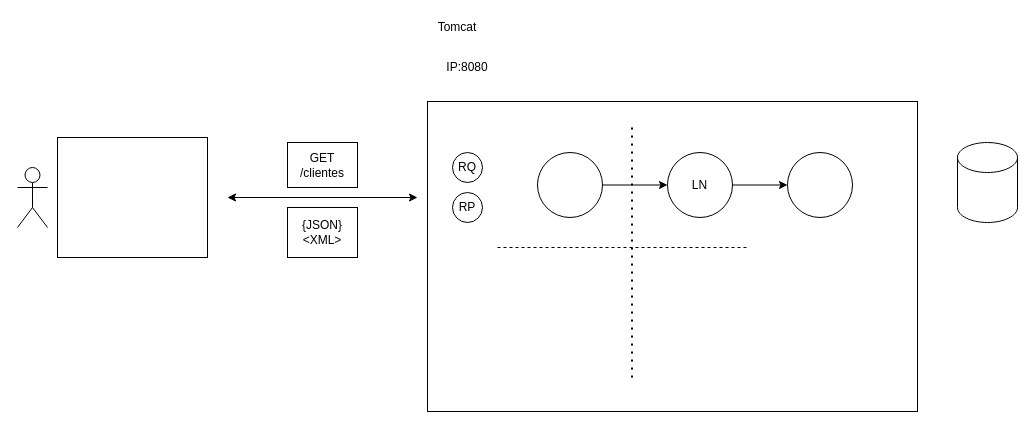
This 1035x429 diagram has some shape labels left out. The centre of each missing label's shape, as x and y in pixels:
"Actor" goes at pixel 32 197.
"LC" goes at pixel 569 185.
"REPO" goes at pixel 819 185.
